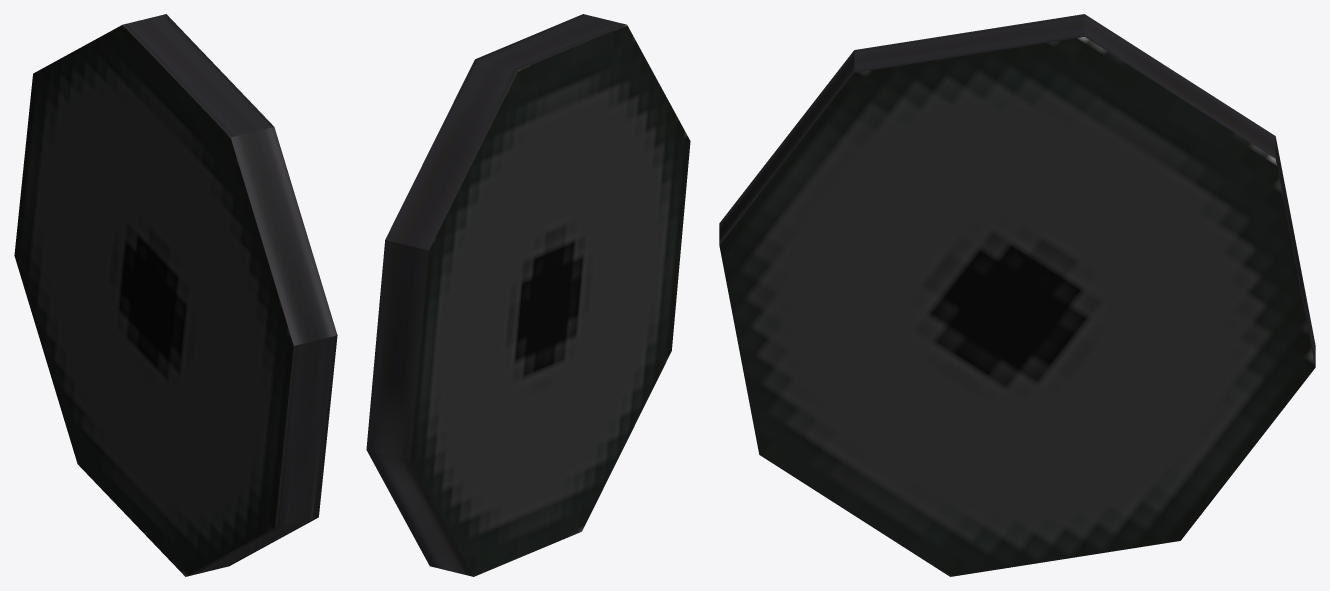
The model's file is SM_WheelChair_Wheel_S.fbx.
3 renders of one model, left to right at view 1: azimuth 30°, elevation 25°; view 2: azimuth 150°, elevation 25°; view 3: azimuth 270°, elevation 25°, orthographic. The views are drawn at different scales.
Parts seen in each view (by area): view 1: SM_Wheelchair_Wheel_S; view 2: SM_Wheelchair_Wheel_S; view 3: SM_Wheelchair_Wheel_S.
Boxes of the visible parts, x1,y1,x2,y2 form: SM_Wheelchair_Wheel_S: [14, 14, 337, 576]; SM_Wheelchair_Wheel_S: [366, 14, 690, 576]; SM_Wheelchair_Wheel_S: [719, 14, 1315, 576].
Size of the model in its own units: 2.32 by 25.64 by 25.64.
